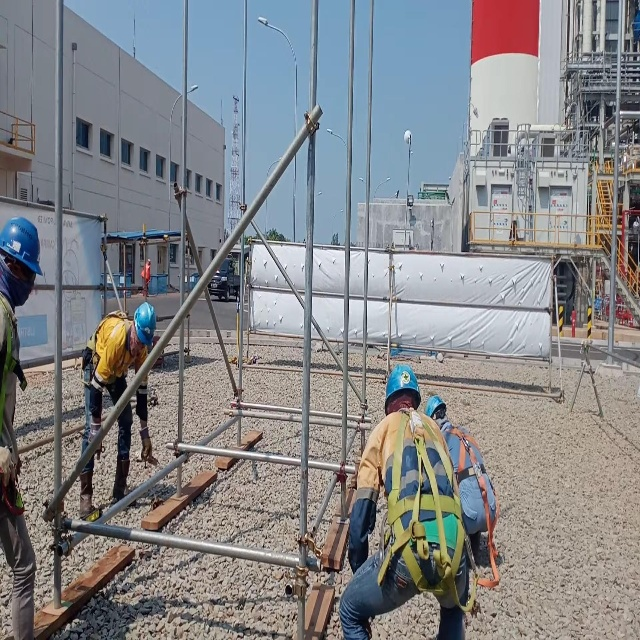Arnes_seguridad: (375, 404, 479, 611), (443, 424, 506, 592), (84, 308, 133, 395)
